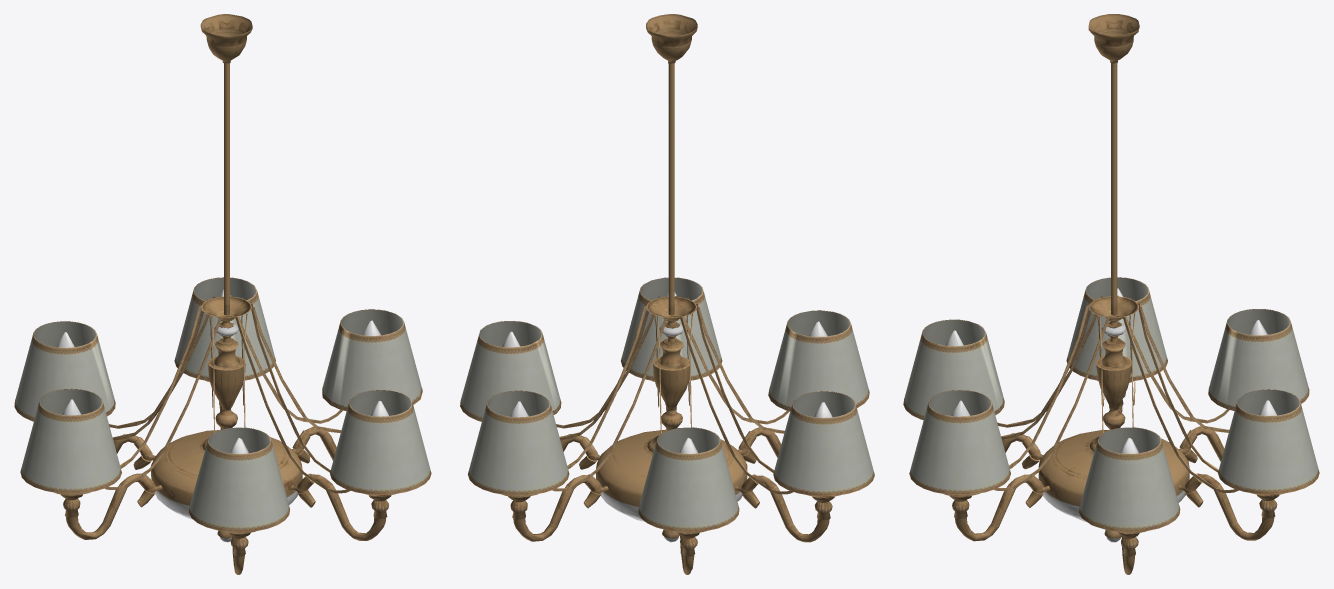
File: Chandelier_02.8ec4dcc0.glb
3 renders of one model, left to right at view 1: azimuth 30°, elevation 25°; view 2: azimuth 150°, elevation 25°; view 3: azimuth 270°, elevation 25°, orthographic.
Parts seen in each view (by area): view 1: Chandelier_02; view 2: Chandelier_02; view 3: Chandelier_02.
Part boxes in pixels (left/top/right/bottom): Chandelier_02: left=14, top=14, right=431, bottom=574; Chandelier_02: left=460, top=14, right=874, bottom=574; Chandelier_02: left=903, top=14, right=1319, bottom=574.
Bounding box in the file's own units: 0.7895 × 0.9864 × 0.72.
Materials: 2 (1 with a texture image).
